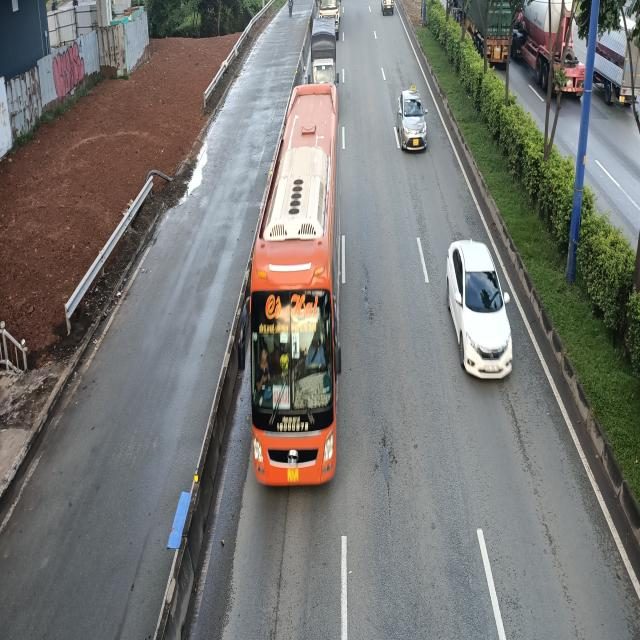car: (446, 238, 514, 379), (397, 92, 428, 154)
coach: (235, 87, 346, 486)
truck: (311, 19, 339, 90)
